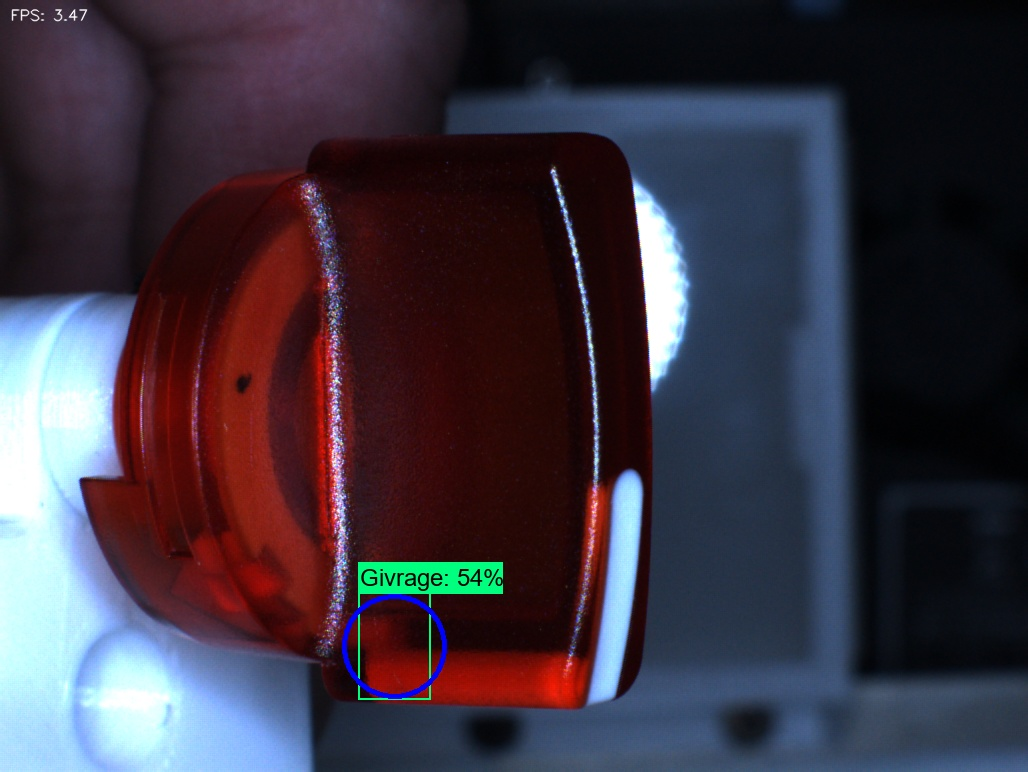PointNoir: (206, 339, 283, 428)
